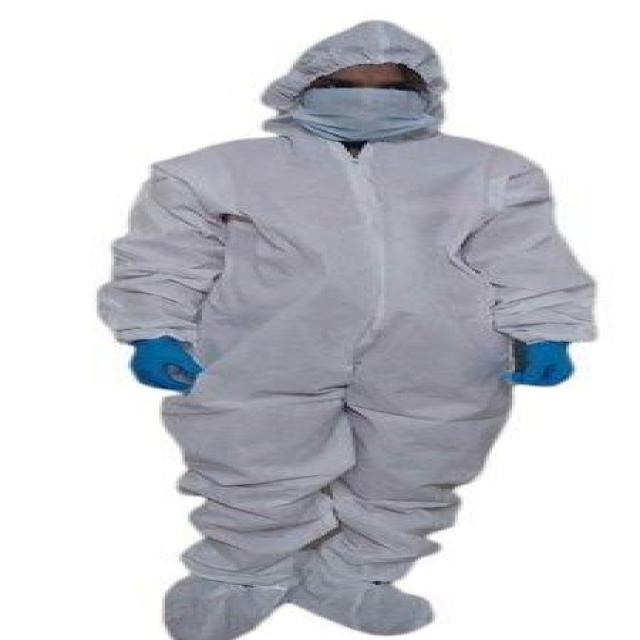Coverall: (88, 20, 603, 640)
Gloves: (117, 332, 213, 392), (498, 336, 583, 391)
Mask: (293, 86, 429, 138)
